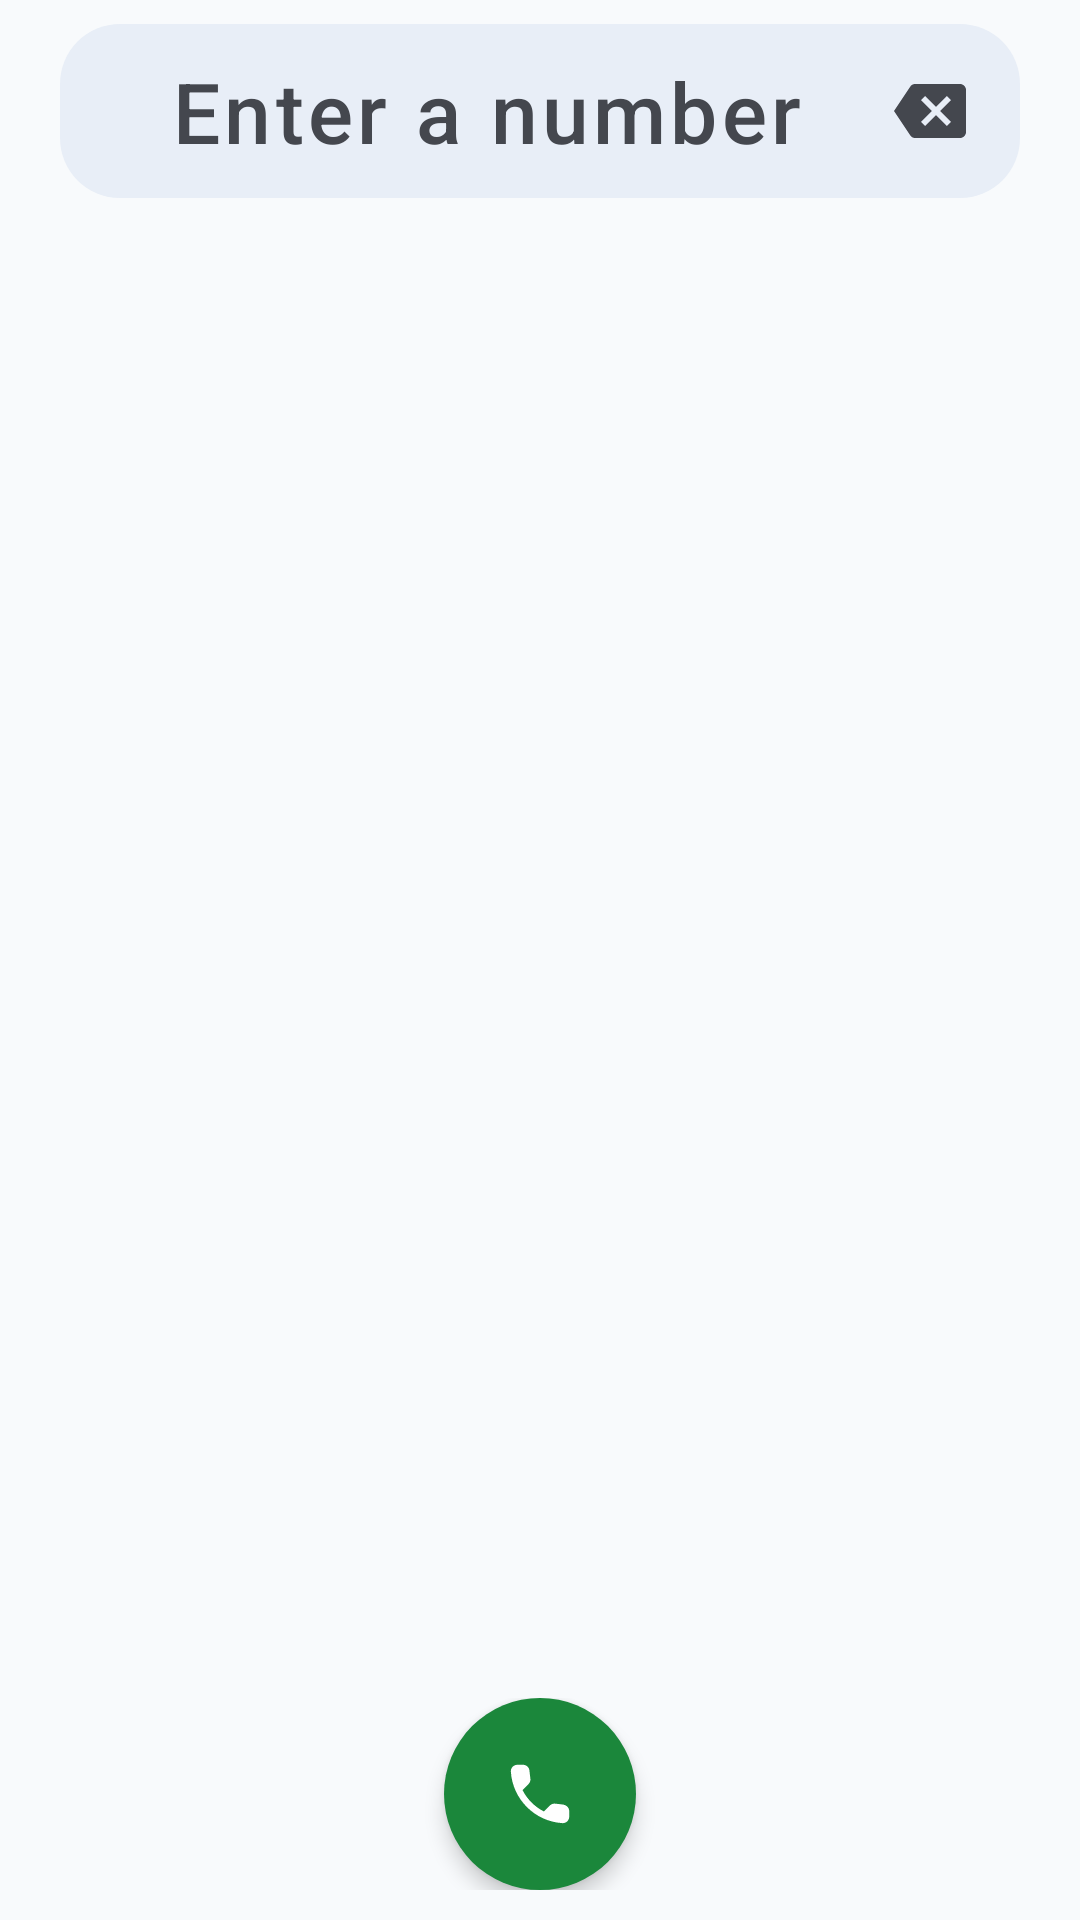

Named icons in this screenshot (1080x1920) and their centers, (x,y):
backspace: (930,111)
Place call: (540,1794)
